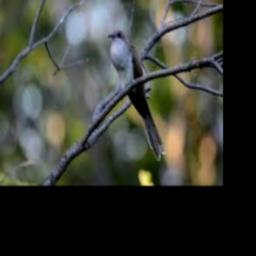Cuckoo: (107, 28, 165, 161)
